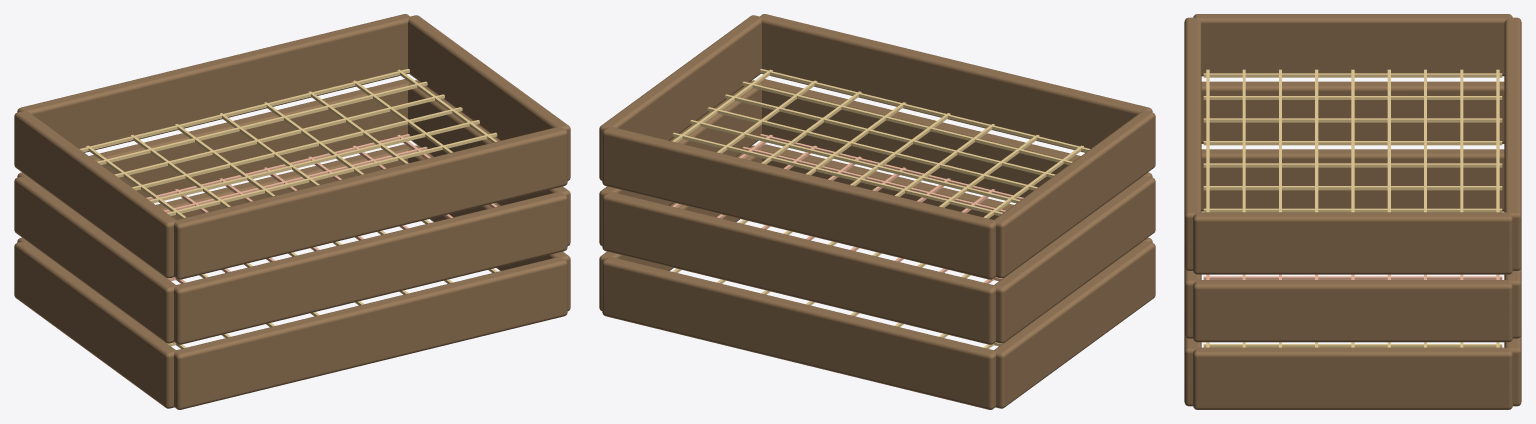
File: sifter_deck.gltf
The picture shows the model from 3 angles, left to right: view 1: azimuth 30°, elevation 25°; view 2: azimuth 150°, elevation 25°; view 3: azimuth 270°, elevation 25°; orthographic projection. The views are drawn at different scales.
Visible parts, largest first — view 1: Side1-1, Side0-1, Side2-1, Side21, Side11, End2-1, End0-1, End1-1, End21, End11, Side01, WireX27 (+16 smaller); view 2: Side11, Side01, Side21, Side2-1, Side1-1, End2-1, End0-1, End1-1, End21, End11, Side0-1, WireX21 (+16 smaller); view 3: End21, End01, End11, End2-1, End0-1, End1-1, Side2-1, Side21, WireY24, WireY25, WireY23, WireY20 (+18 smaller).
Part boxes in pixels (left/top/right/bottom): Side1-1: left=174, top=192, right=567, bottom=344; Side0-1: left=174, top=257, right=567, bottom=409; Side2-1: left=174, top=127, right=567, bottom=279; Side21: left=17, top=14, right=409, bottom=152; Side11: left=17, top=79, right=409, bottom=197; End2-1: left=14, top=111, right=175, bottom=278; End0-1: left=14, top=241, right=175, bottom=408; End1-1: left=14, top=176, right=175, bottom=343; End21: left=408, top=15, right=570, bottom=180; End11: left=408, top=80, right=570, bottom=245; Side01: left=17, top=144, right=409, bottom=242; WireX27: left=97, top=81, right=427, bottom=164; Side11: left=602, top=192, right=995, bottom=344; Side01: left=602, top=257, right=995, bottom=409; Side21: left=602, top=127, right=995, bottom=279; Side2-1: left=760, top=14, right=1152, bottom=152; Side1-1: left=760, top=79, right=1152, bottom=197; End2-1: left=994, top=111, right=1155, bottom=278; End0-1: left=994, top=241, right=1155, bottom=408; End1-1: left=994, top=176, right=1155, bottom=343; End21: left=599, top=15, right=761, bottom=180; End11: left=599, top=80, right=761, bottom=245; Side0-1: left=760, top=144, right=1152, bottom=242; WireX21: left=742, top=81, right=1072, bottom=164; End21: left=1193, top=212, right=1512, bottom=274; End01: left=1193, top=347, right=1512, bottom=409; End11: left=1193, top=280, right=1512, bottom=342; End2-1: left=1193, top=14, right=1512, bottom=76; End0-1: left=1201, top=149, right=1504, bottom=211; End1-1: left=1201, top=81, right=1504, bottom=143; Side2-1: left=1184, top=17, right=1201, bottom=270; Side21: left=1504, top=17, right=1521, bottom=270; WireY24: left=1203, top=163, right=1502, bottom=167; WireY25: left=1203, top=186, right=1502, bottom=190; WireY23: left=1203, top=141, right=1502, bottom=145; WireY20: left=1203, top=73, right=1502, bottom=77.
Bounding box in the file's own units: 0.228 × 0.1 × 0.158.
